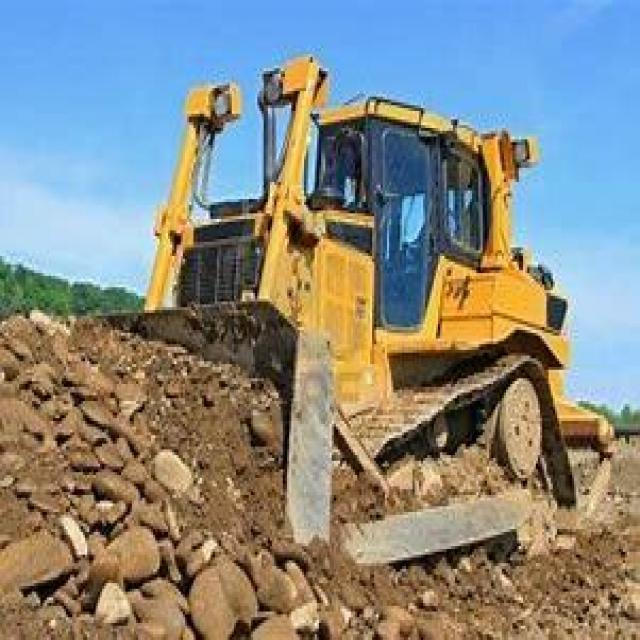Bulldozer: (13, 37, 608, 617)
